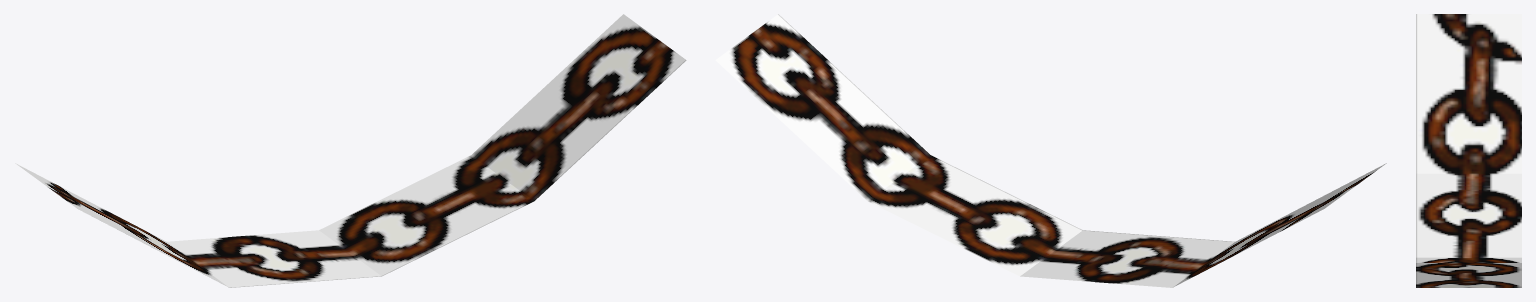
Rendered from Kette1_1812.glb.
3 renders of one model, left to right at view 1: azimuth 30°, elevation 25°; view 2: azimuth 150°, elevation 25°; view 3: azimuth 270°, elevation 25°, orthographic. The views are drawn at different scales.
Visible parts, largest first — view 1: pPlaneShape6; view 2: pPlaneShape6; view 3: pPlaneShape6.
Boxes of the visible parts, x1,y1,x2,y2 form: pPlaneShape6: [15, 14, 686, 287]; pPlaneShape6: [715, 14, 1386, 287]; pPlaneShape6: [1416, 14, 1521, 287].
Bounding box in the file's own units: 0.25 × 0.0557 × 0.0449.
1 material, 1 textured.
